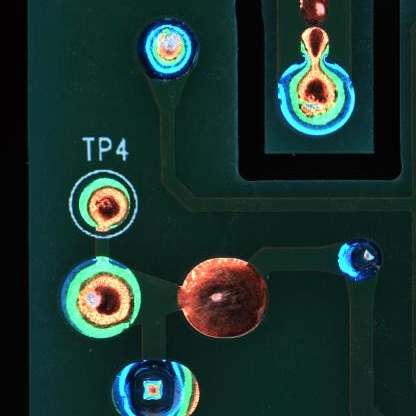spot: (62, 257, 141, 340), (277, 60, 355, 134), (111, 358, 200, 416), (136, 18, 199, 78), (78, 177, 133, 232), (338, 236, 382, 283)
